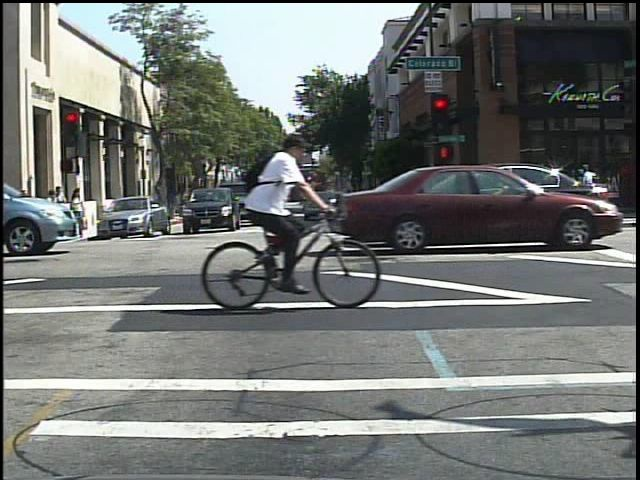person: (242, 124, 326, 302), (577, 159, 604, 224)
